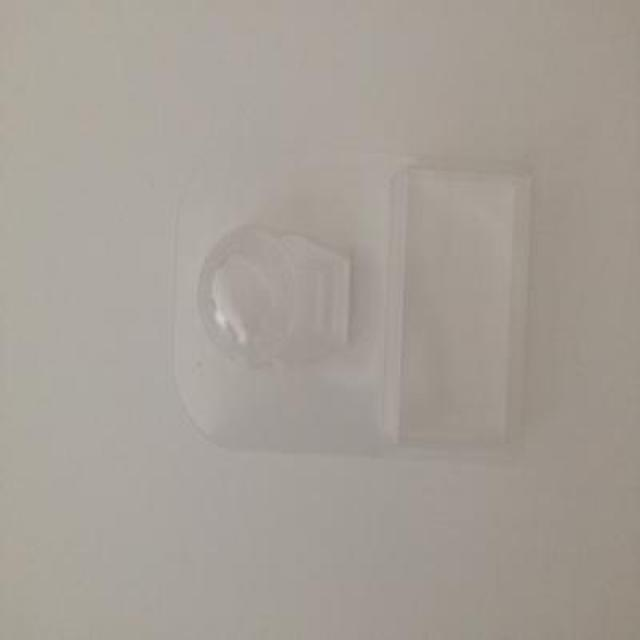plastic: (180, 138, 520, 462)
